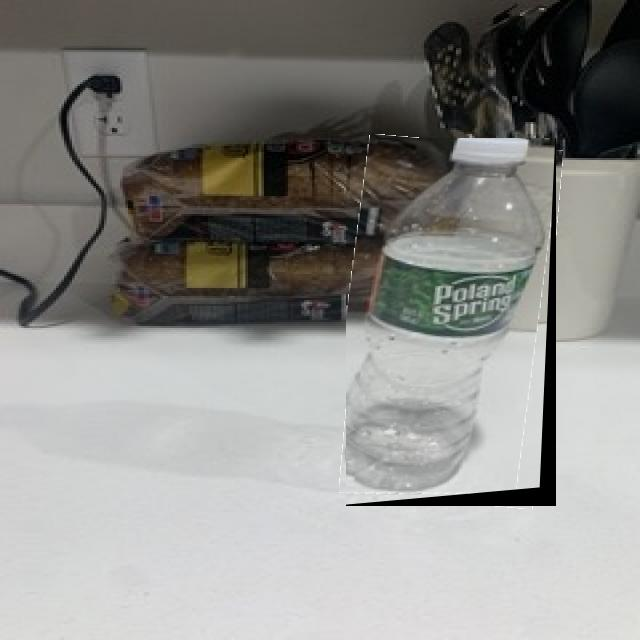water_bottle: (346, 138, 556, 506)
